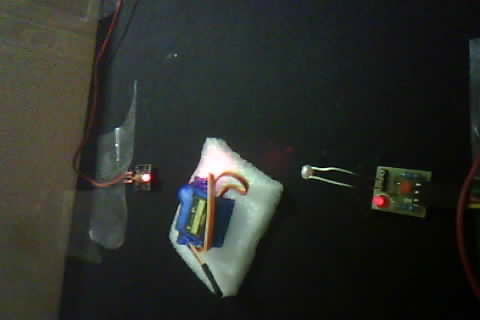motor: (164, 143, 274, 292)
